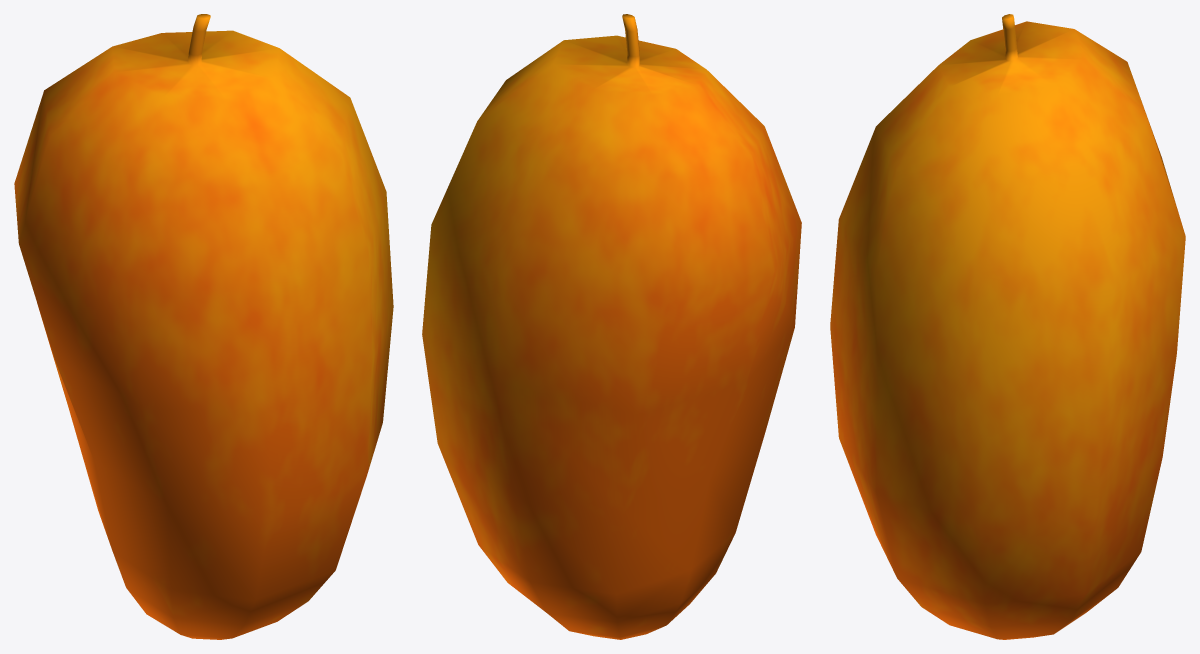
File: mango.glb
The picture shows the model from 3 angles, left to right: view 1: azimuth 30°, elevation 25°; view 2: azimuth 150°, elevation 25°; view 3: azimuth 270°, elevation 25°; orthographic projection.
Visible parts, largest first — view 1: Object_6; view 2: Object_6; view 3: Object_6.
Part boxes in pixels (left/top/right/bottom): Object_6: left=14, top=14, right=393, bottom=639; Object_6: left=422, top=14, right=801, bottom=639; Object_6: left=830, top=14, right=1185, bottom=639.
Bounding box in the file's own units: 1.25 × 2.15 × 1.14.
1 material, 1 textured.
